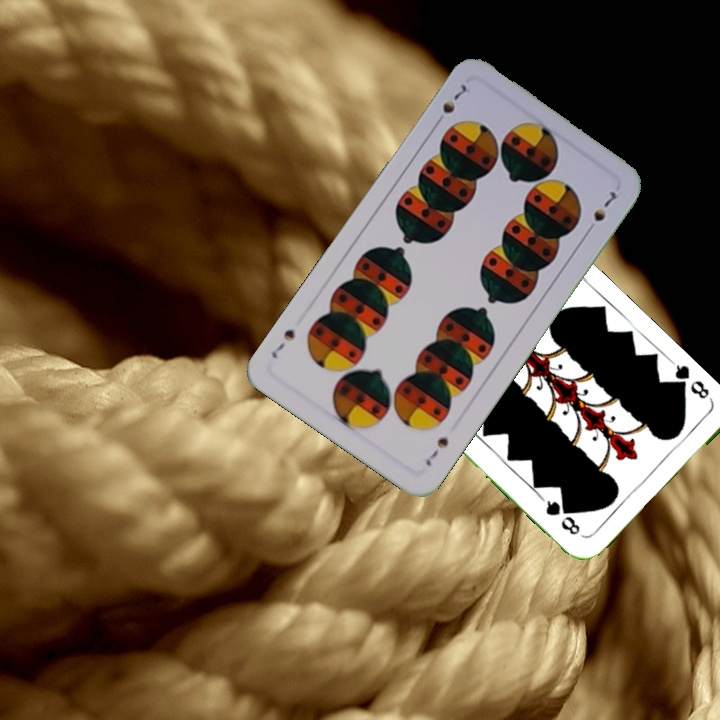G8: (667, 357, 715, 403)
S7: (430, 80, 472, 129), (421, 433, 451, 469)
